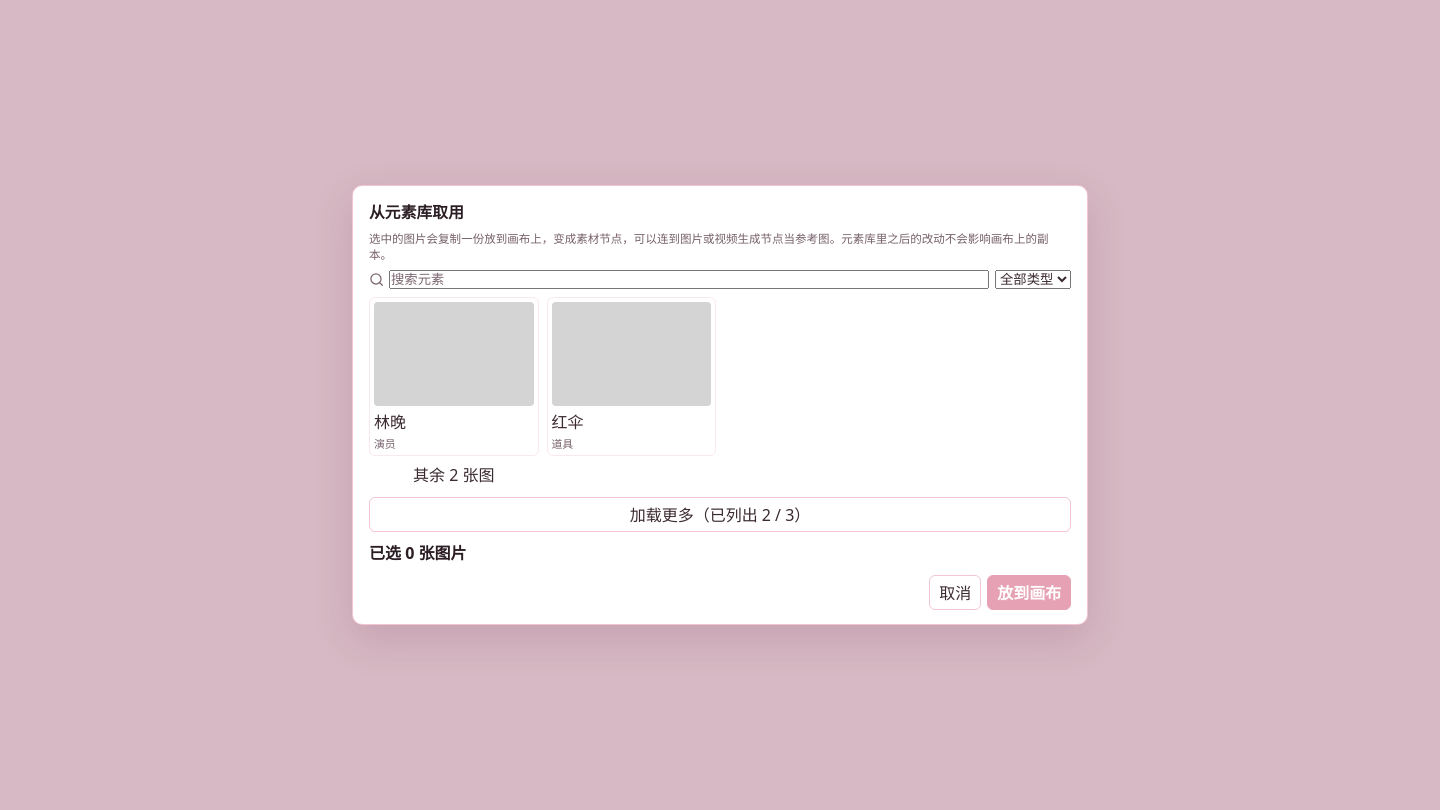
taking pictures from the element library › loads further pages and will not take more than the limit
The image size is (1440, 810).
Click the button "加载更多（已列出 2 / 3）" at [720, 514], box [369,497,1071,532]
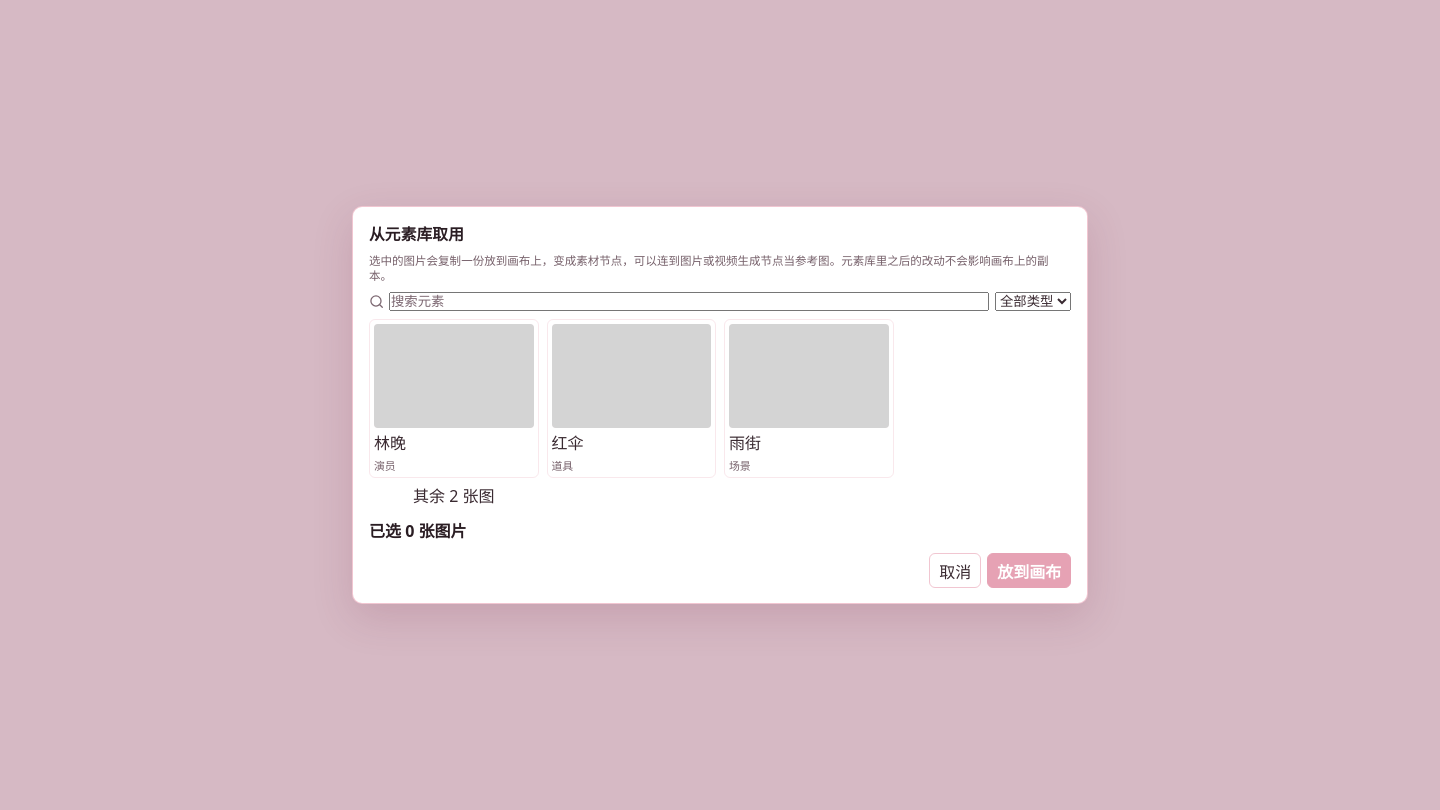
Click the button with aria-label "雨街 · 场景" at [809, 398], box [724,319,894,478]
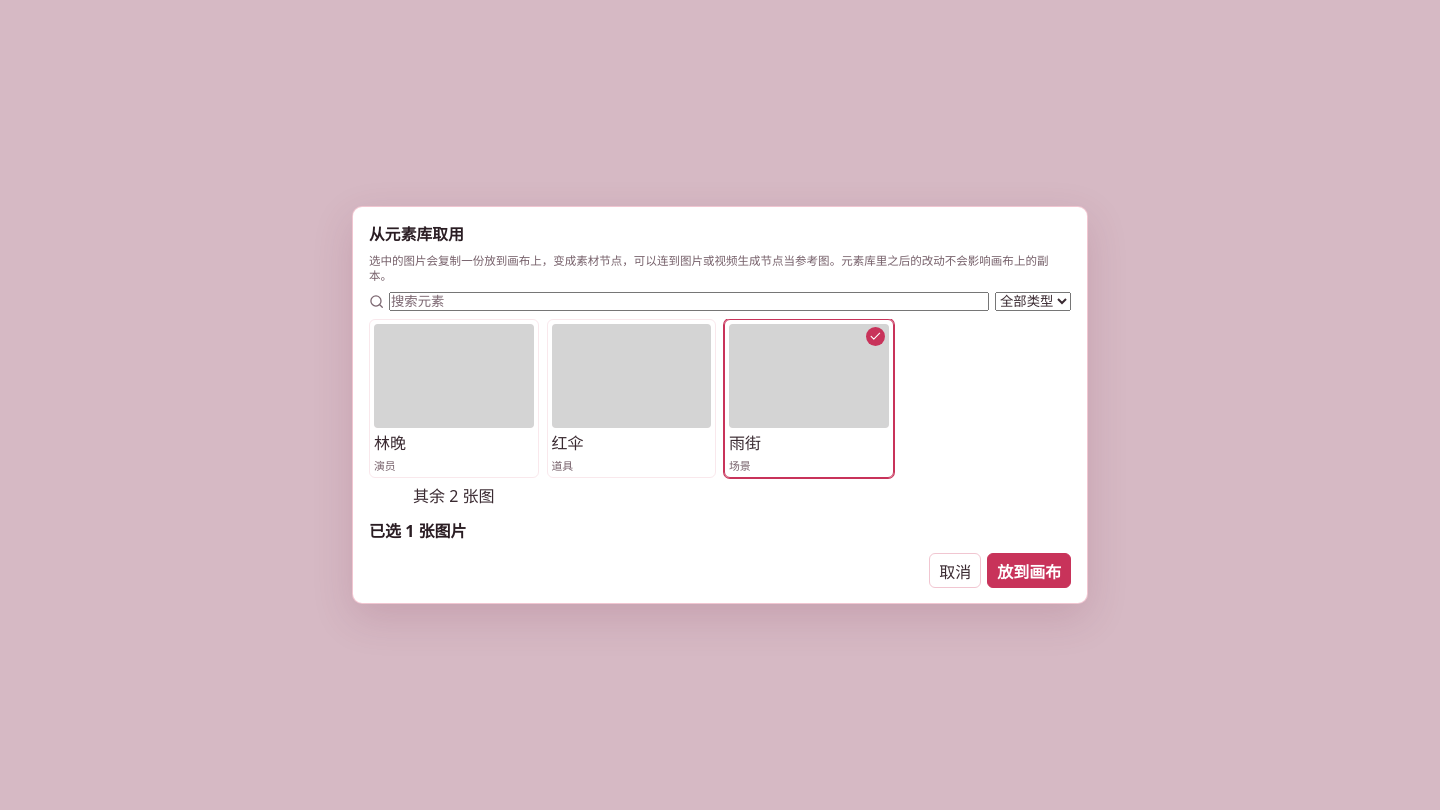
Check: the button "加载更多" is not shown
Check: the button "放到画布" is enabled, box [987,553,1071,588]
Click the button with aria-label "红伞 · 道具" at [631, 398], box [546,319,716,478]
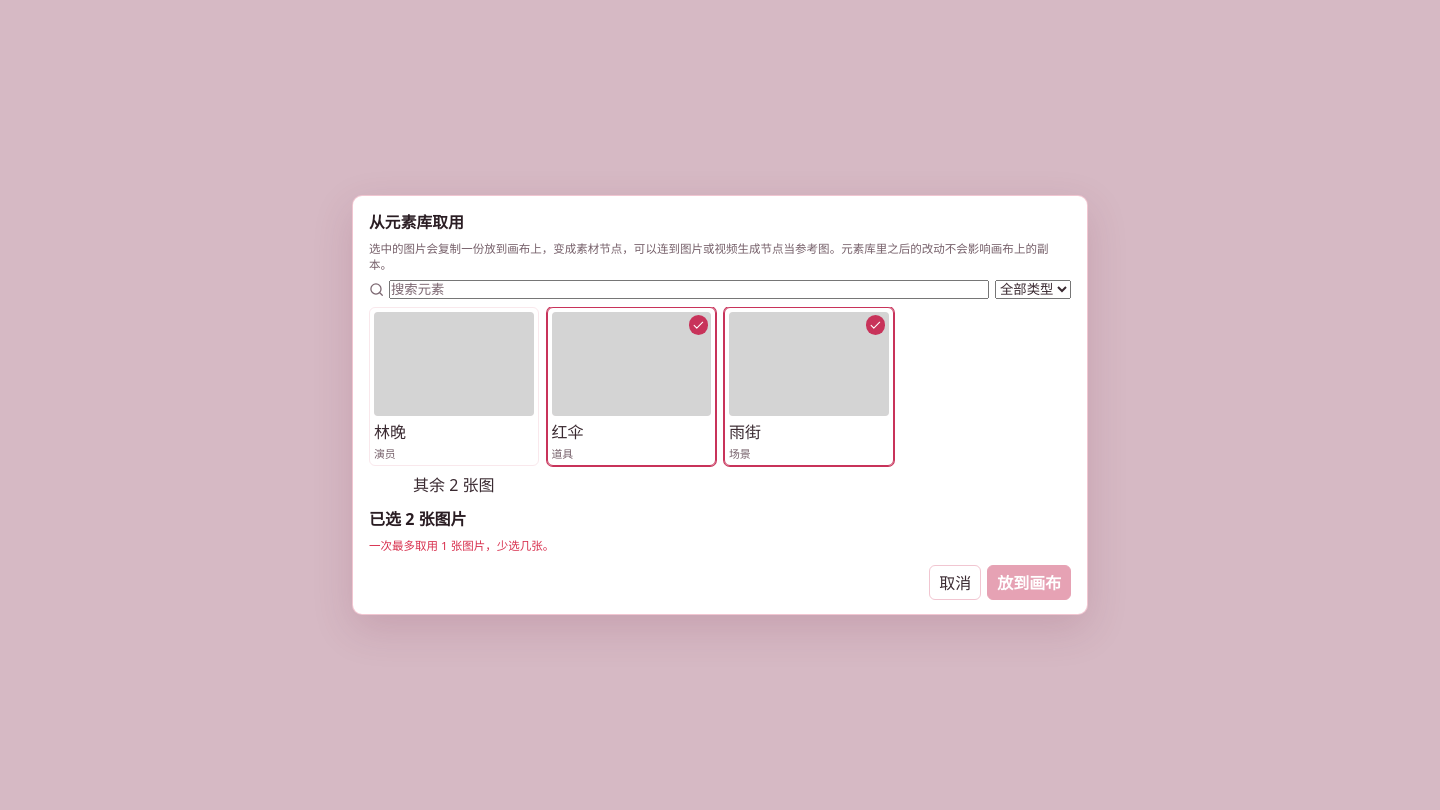
Check: the button "放到画布" is disabled, box [987,565,1071,600]
Check: the message shows "一次最多取用 1 张图片", box [369,538,554,553]
